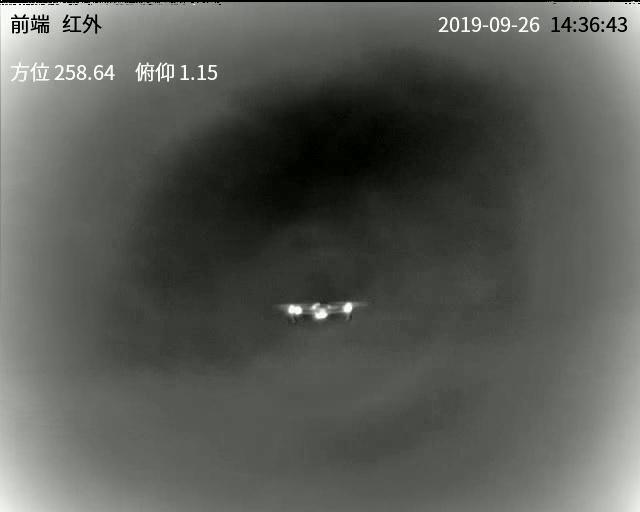DRONE: (286, 301, 355, 325)
